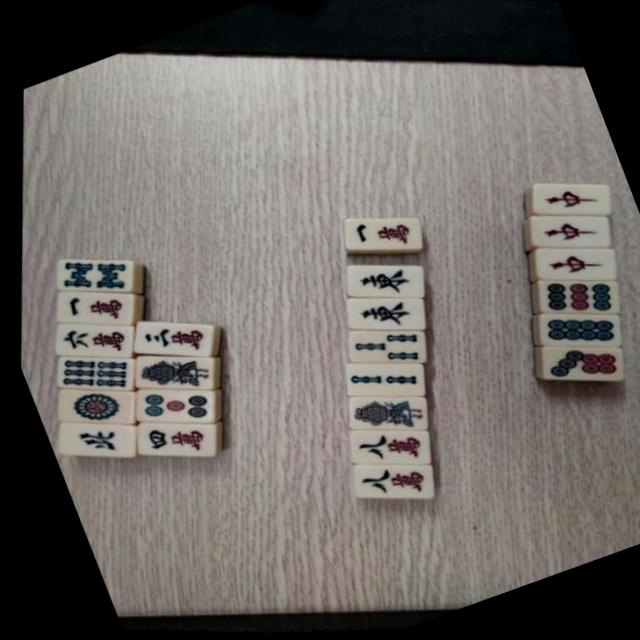hdr: (528, 229, 618, 304), (524, 197, 612, 270), (525, 165, 613, 238)
hwe: (338, 277, 426, 351), (340, 244, 427, 316)
hwn: (44, 399, 137, 476)
sb1: (335, 372, 432, 454), (124, 333, 217, 410)
sb2: (334, 341, 426, 418)
sb3: (337, 309, 428, 385)
sb6: (55, 355, 125, 386)
sb8: (56, 258, 125, 288)
sc1: (336, 198, 423, 270), (56, 291, 125, 320)
sc3: (134, 321, 205, 353)
sc4: (136, 422, 204, 452)
sc6: (54, 322, 125, 353)
sc8: (340, 442, 435, 522), (336, 407, 431, 487)
sd1: (54, 388, 124, 420)
sd5: (134, 389, 203, 419)
sd7: (532, 327, 625, 404)
sd8: (530, 293, 623, 370)
sd9: (529, 260, 622, 338)
